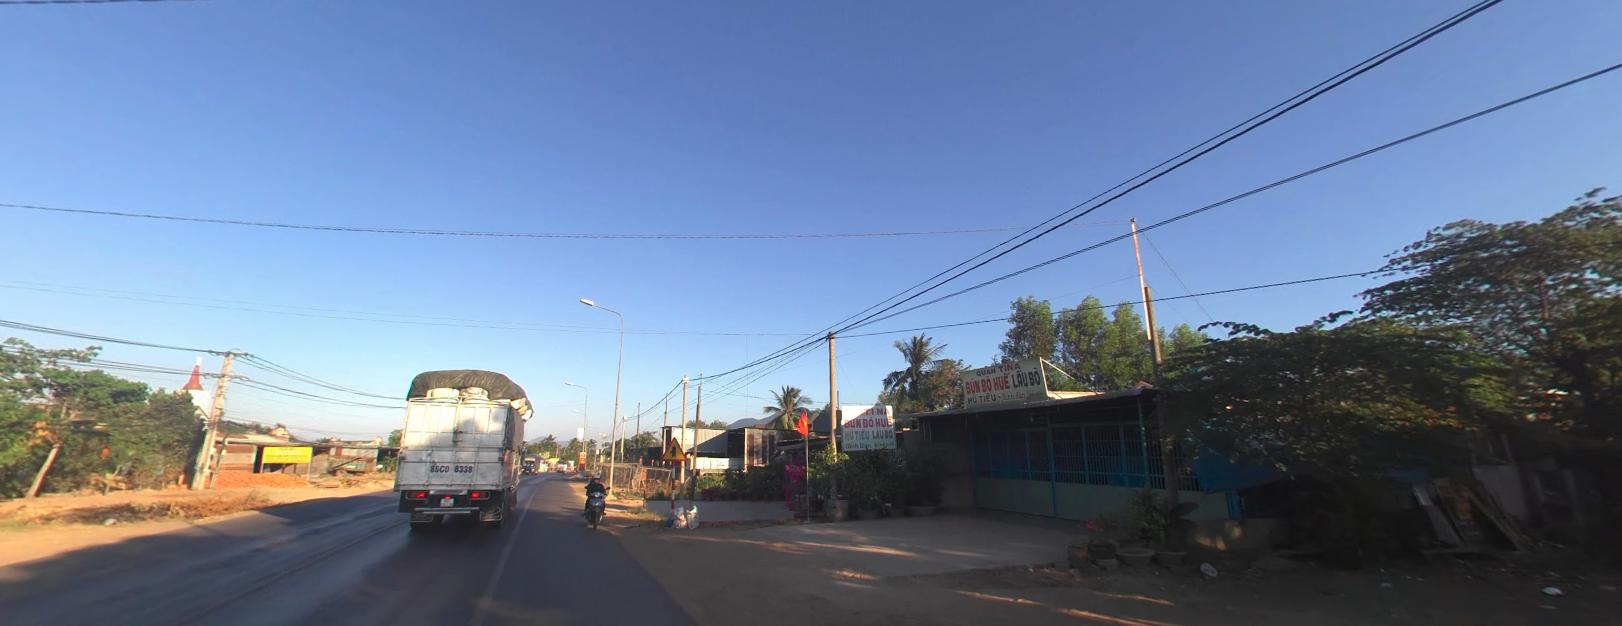Nguy hiem: (660, 433, 688, 460)
